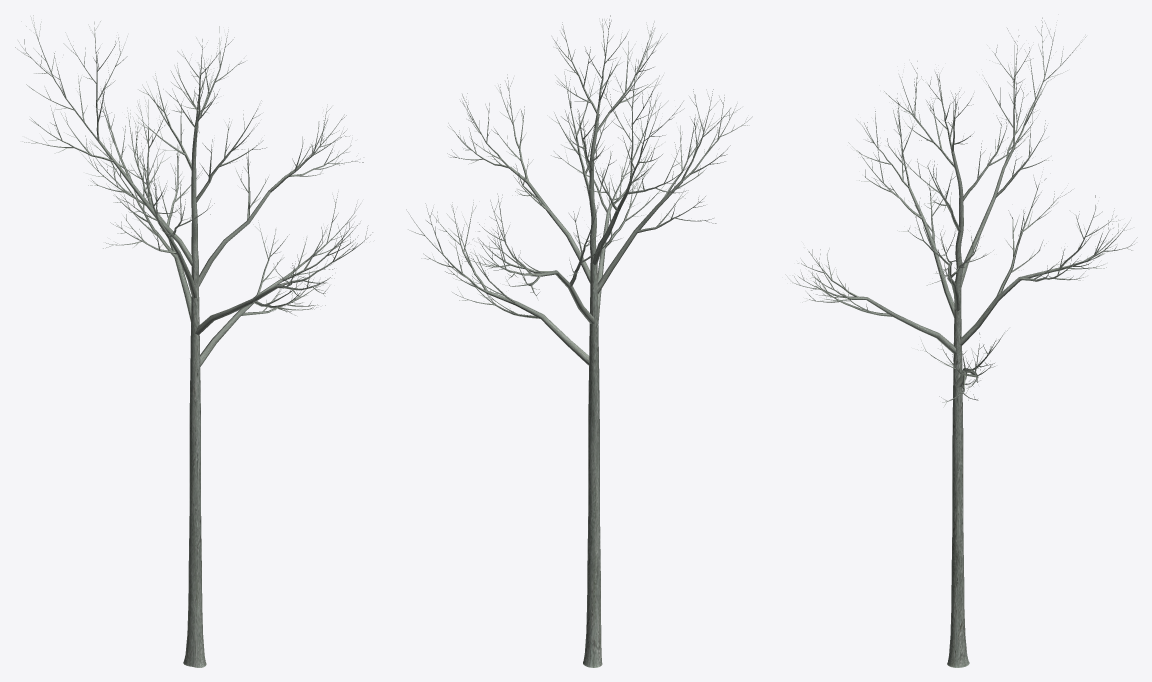
File: shugan.glb
3 views of the same model, side by side, from view 1: azimuth 30°, elevation 25°; view 2: azimuth 150°, elevation 25°; view 3: azimuth 270°, elevation 25° (orthographic). The views are drawn at different scales.
Parts seen in each view (by area): view 1: StaticModelFinal_m_1.3; view 2: StaticModelFinal_m_1.3; view 3: StaticModelFinal_m_1.3.
Part boxes in pixels (box(x1,y1,x2,y2)): StaticModelFinal_m_1.3: box(15, 15, 372, 667); StaticModelFinal_m_1.3: box(406, 15, 752, 667); StaticModelFinal_m_1.3: box(785, 17, 1137, 667).
Size of the model in its own units: 3305 by 6457 by 3481.
1 material, 1 textured.
